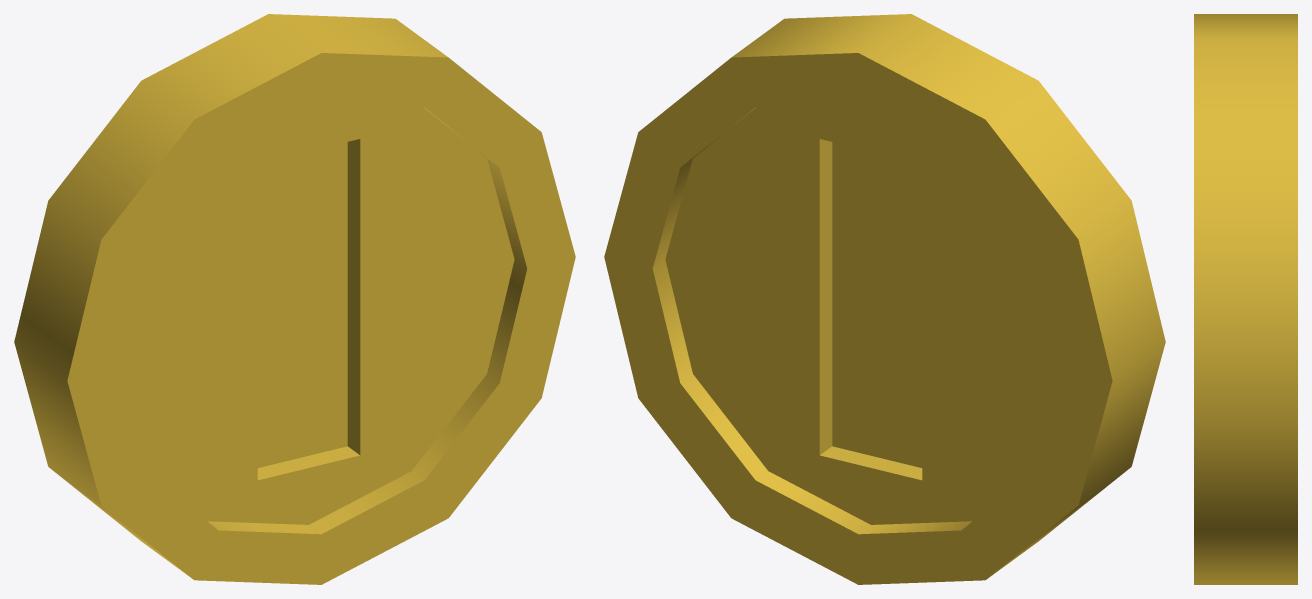
The model's file is SM_Coin.fbx.
3 renders of one model, left to right at view 1: azimuth 30°, elevation 25°; view 2: azimuth 150°, elevation 25°; view 3: azimuth 270°, elevation 25°, orthographic. The views are drawn at different scales.
Parts seen in each view (by area): view 1: SM_Coin; view 2: SM_Coin; view 3: SM_Coin.
Part boxes in pixels (x1,y1,x2,y2): SM_Coin: [14, 14, 575, 584]; SM_Coin: [604, 14, 1165, 584]; SM_Coin: [1194, 14, 1297, 584].
Size of the model in its own units: 0.7881 by 0.7881 by 0.1428.
